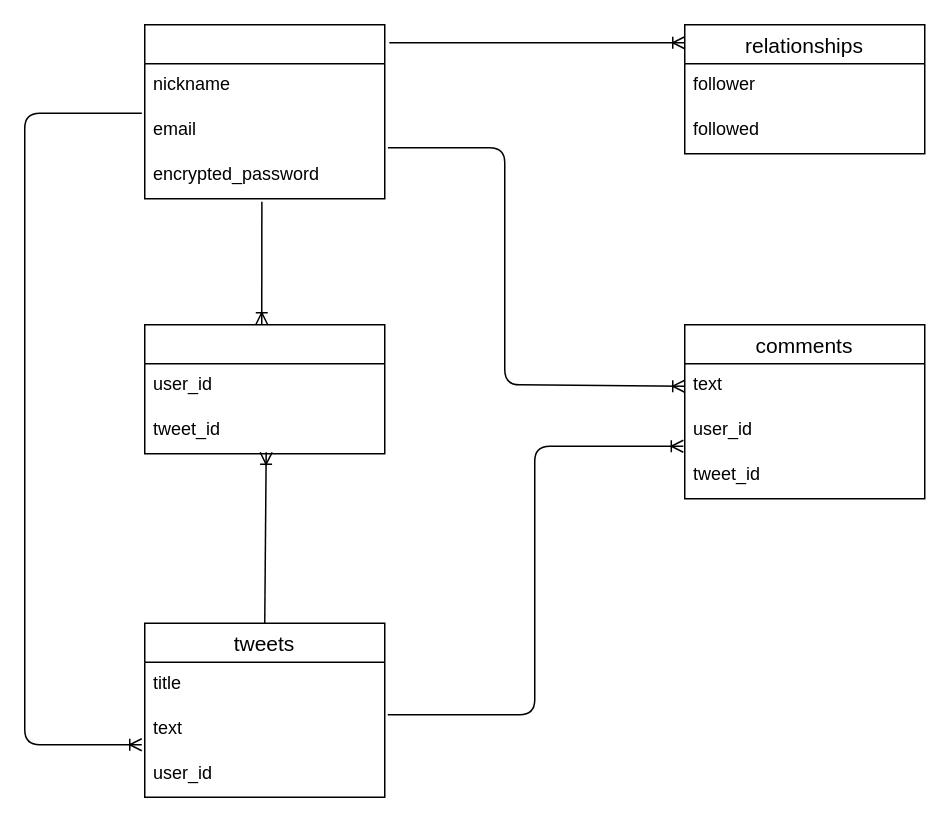
Some shapes in this 950 by 822 pixel diagram are drawn without their labels. The box of each missing label's shape, as (x1, y1, x2, y2) in pixels:
favorites: (143, 323, 385, 454)
users: (143, 23, 385, 199)
